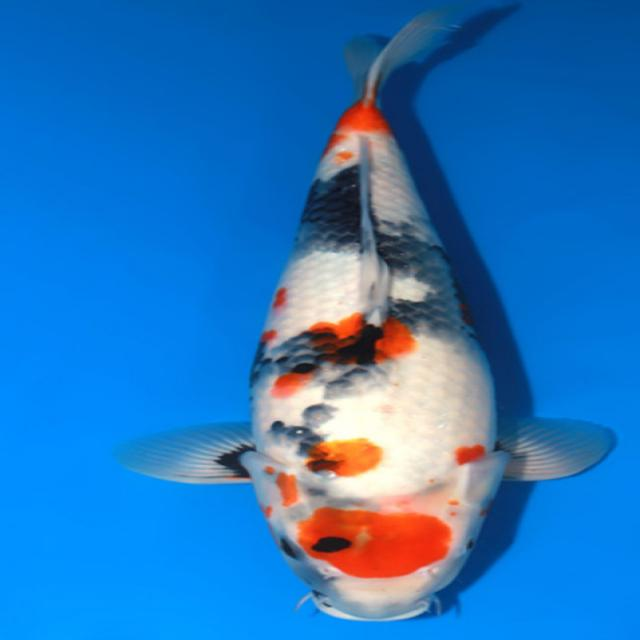Showa: (115, 0, 617, 623)
